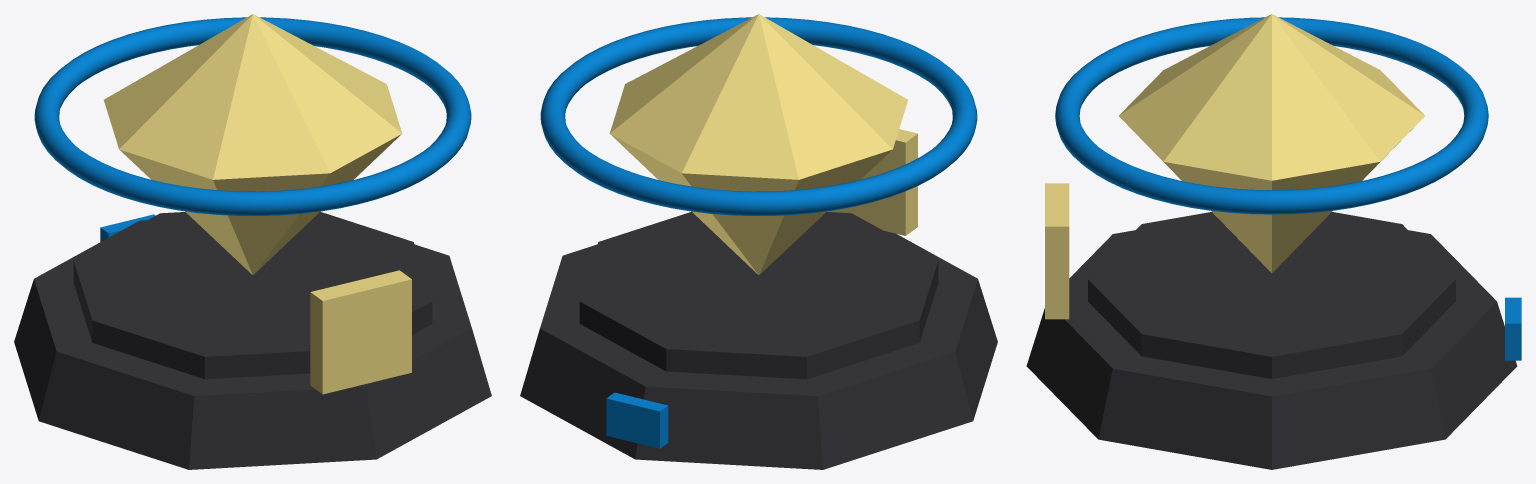
Rendered from test-emblem.glb.
3 views of the same model, side by side, from view 1: azimuth 30°, elevation 25°; view 2: azimuth 150°, elevation 25°; view 3: azimuth 270°, elevation 25° (orthographic).
Bounding box in the file's own units: 2.4 × 1.9 × 2.42.
